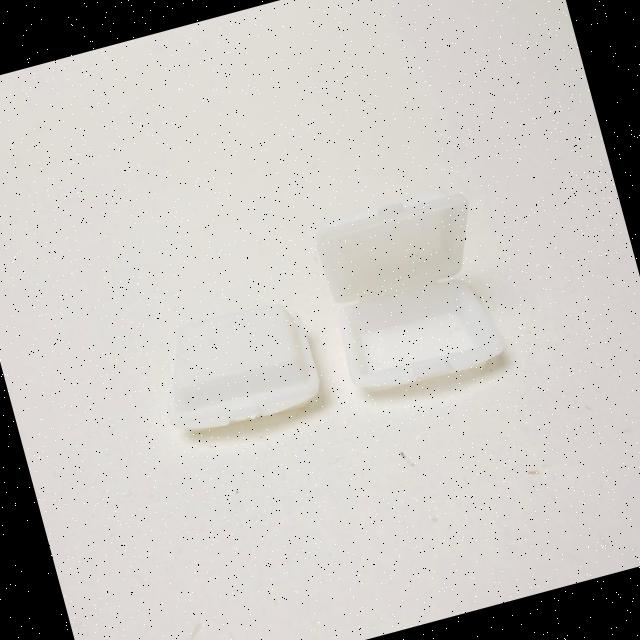styrofoam: (307, 180, 511, 400), (144, 291, 326, 442)
